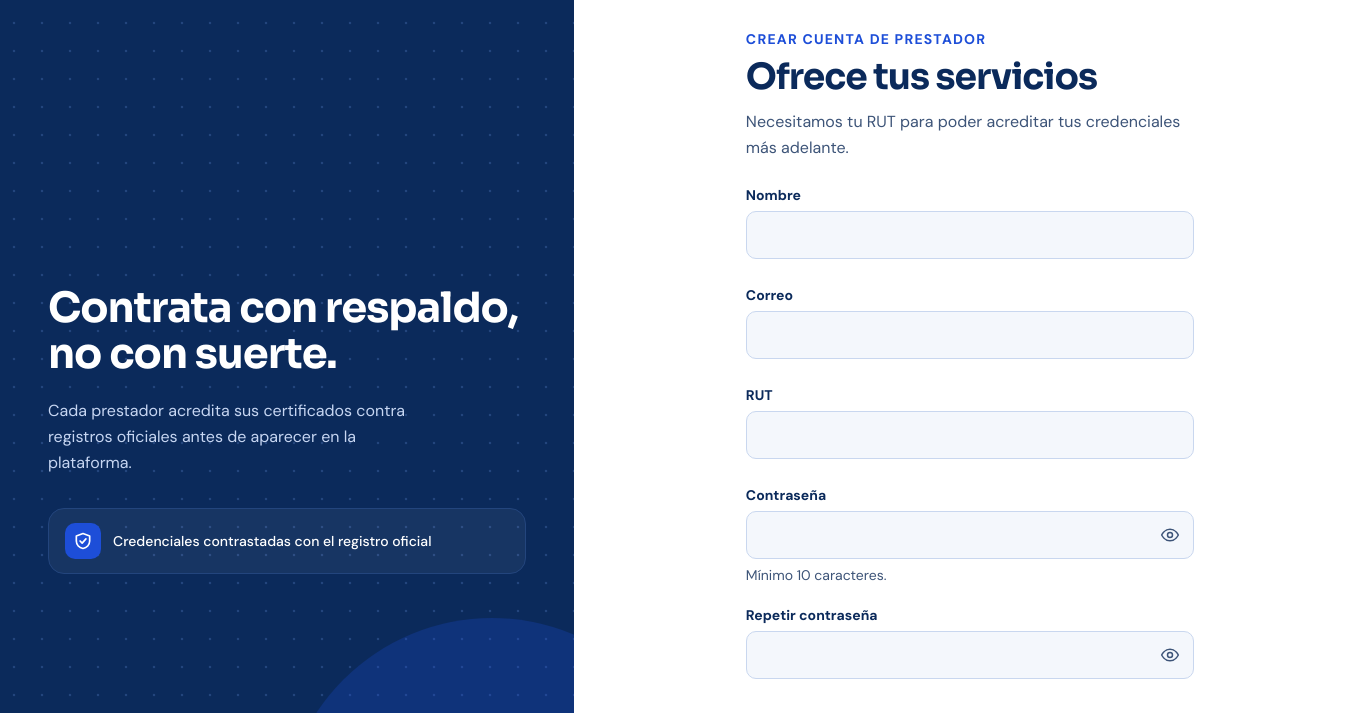
Registro de prestador › no crea la cuenta si las contraseñas no coinciden
The width and height of the screenshot is (1366, 713).
Type "Pedro Soto" into the field labelled "Nombre" at (970, 235), box [746,211,1194,259]
Type "pedro.soto@ejemplo.cl" into the field labelled "Correo" at (970, 335), box [746,311,1194,359]
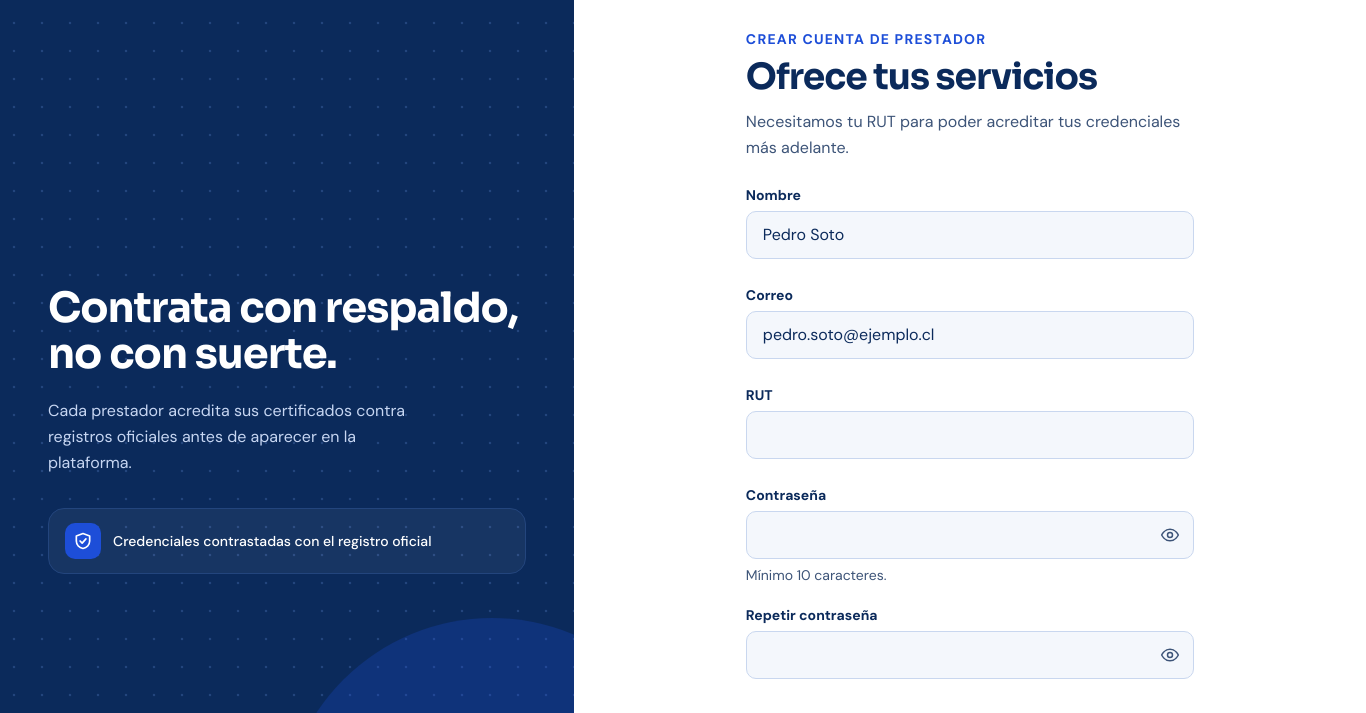
Type "12.345.678-5" into the field labelled "RUT" at (970, 435), box [746,411,1194,459]
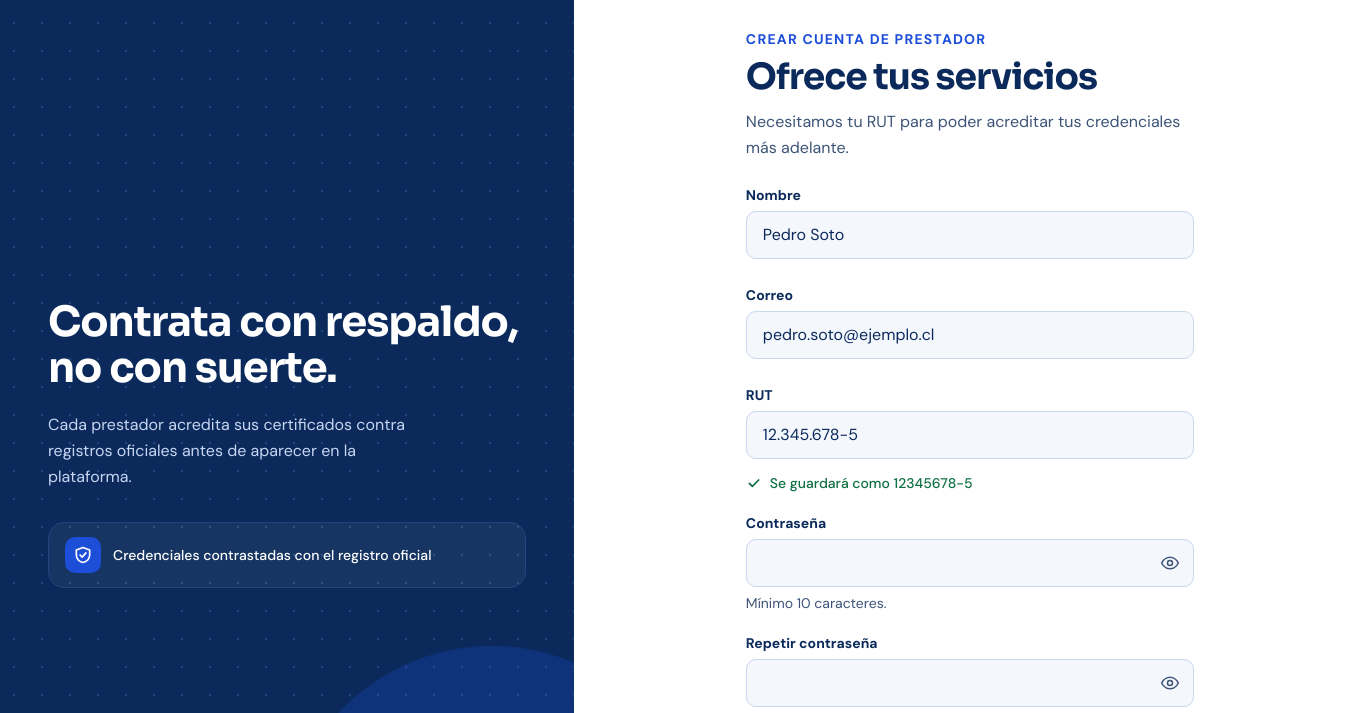
Type "contrasena-segura-123" into the password field labelled "Contraseña" at (970, 563), box [746,539,1194,587]
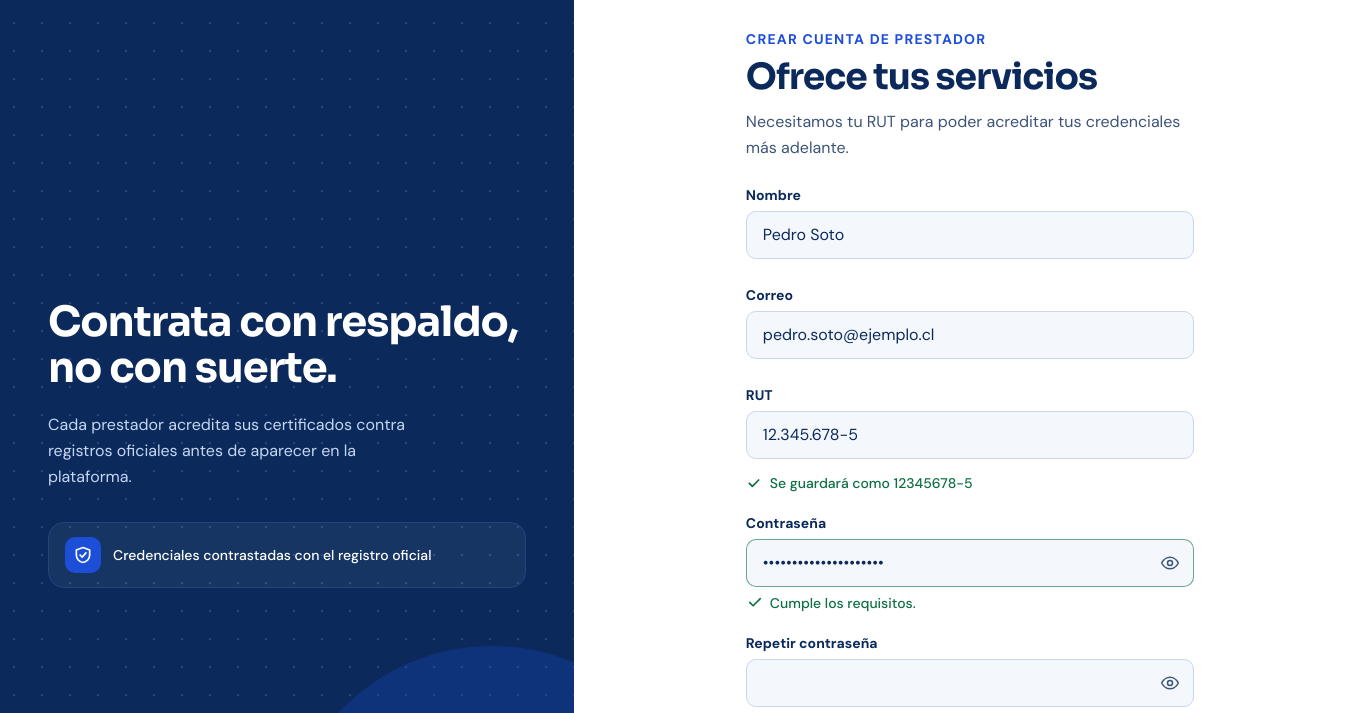
Type "contrasena-segura-123" into the password field labelled "Repetir contraseña" at (970, 683), box [746,659,1194,707]
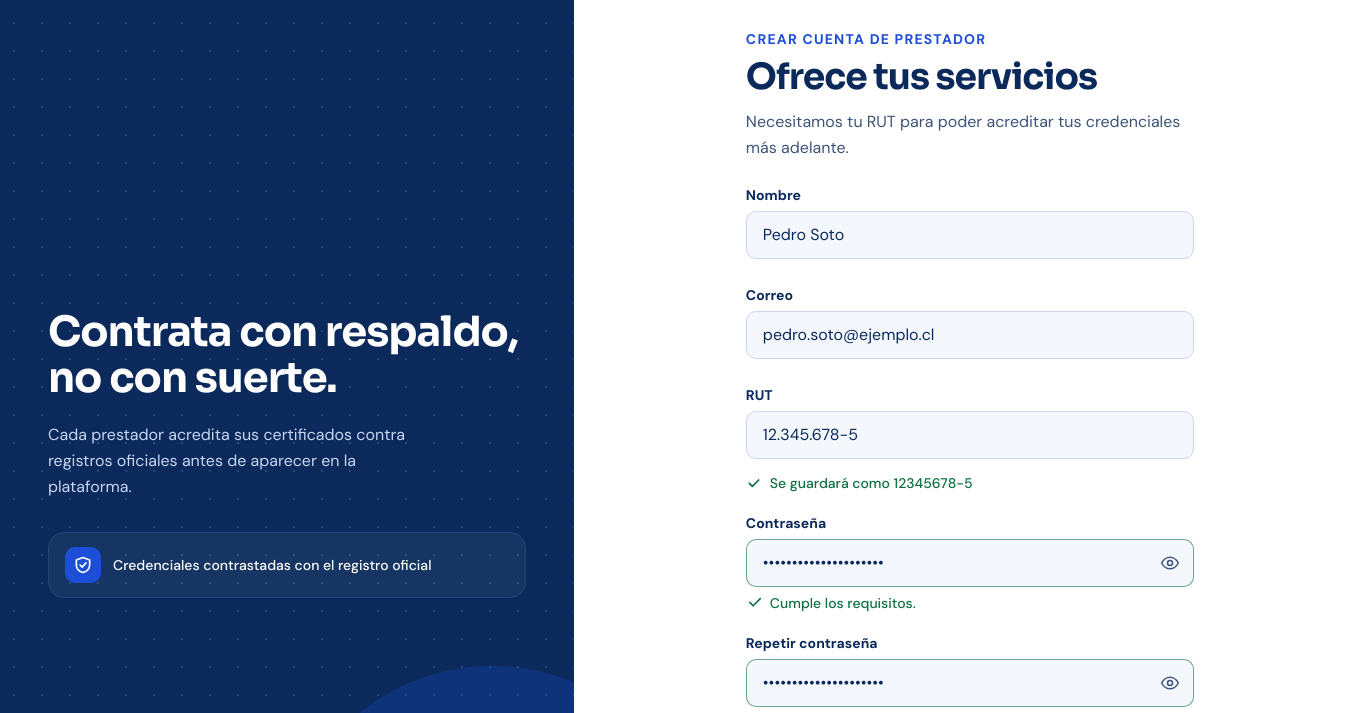
Type "otra-contrasena-distinta" into the password field labelled "Repetir contraseña" at (970, 683), box [746,659,1194,707]
(page scrolled)
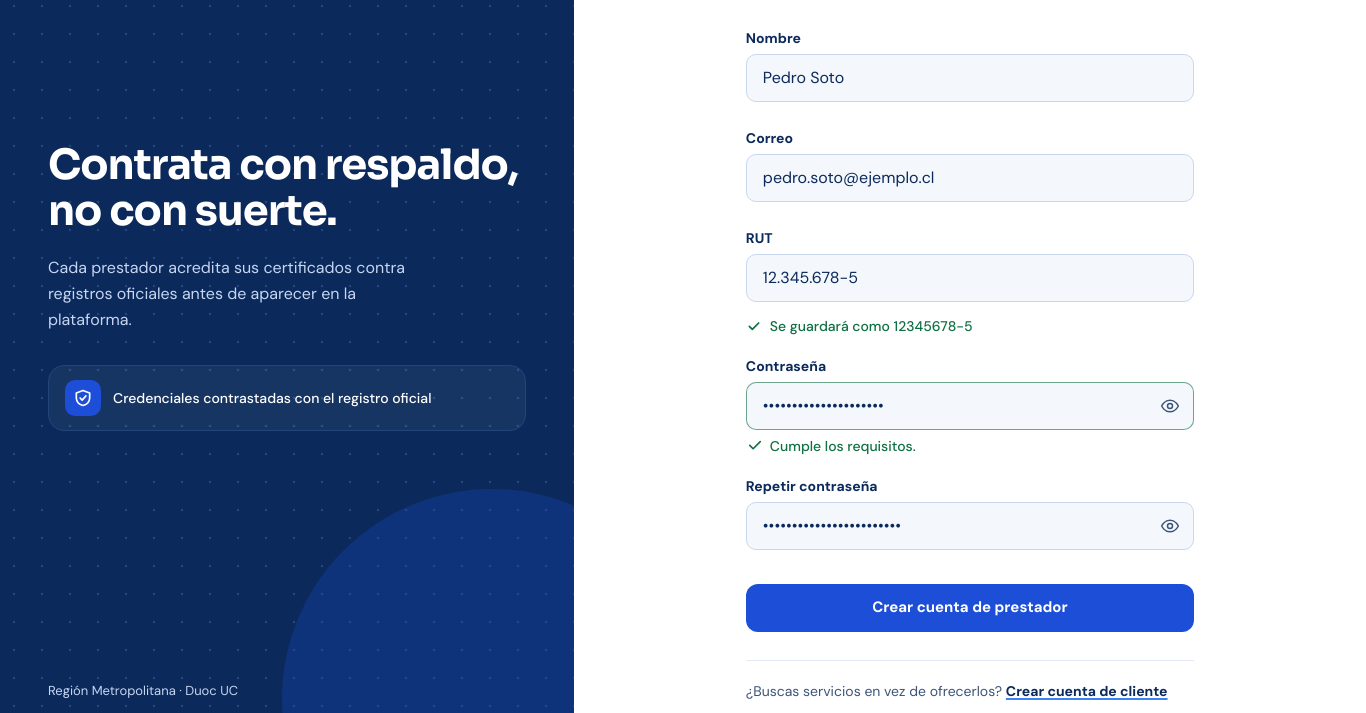
Click the button "Crear cuenta de prestador" at (970, 608), box [746,584,1194,632]
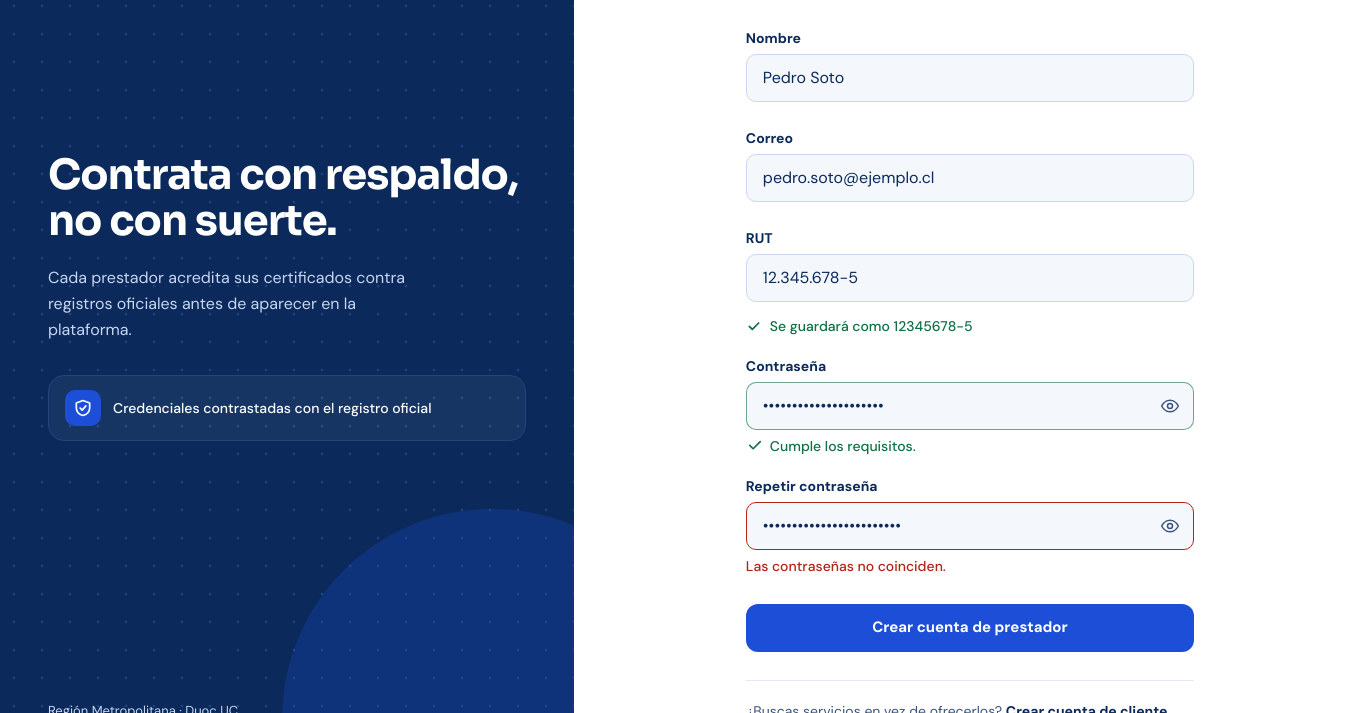
Now the text "Las contraseñas no coinciden." is shown, box [746,556,946,576]
